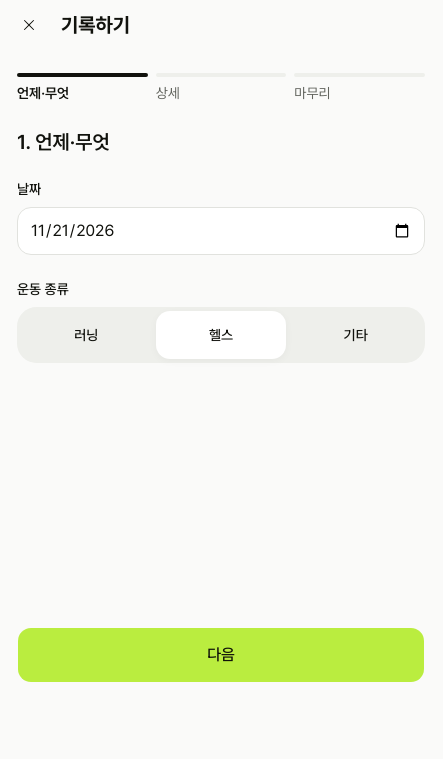
최근 기록 불러오기 버튼 › 조회에 실패해 목록이 없으면 버튼을 숨긴다
What coordinates should you click on to do the following:
click the button "다음"
I would click on:
 (221, 655)
Its box is [17,627,425,683].
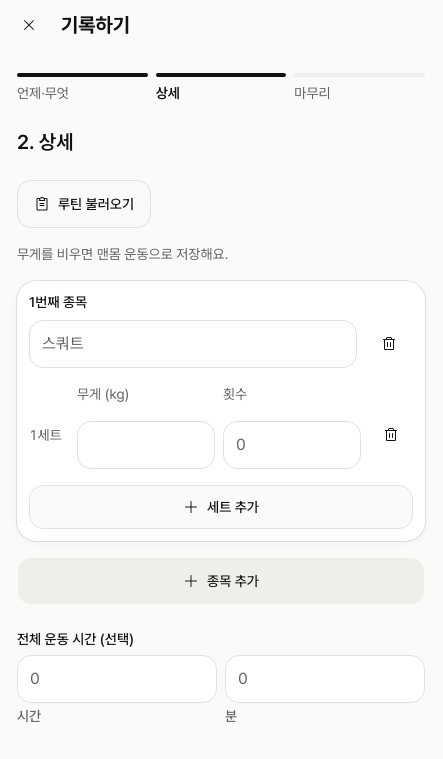
Expected: the button "루틴 불러오기" is shown, [17,180,151,228]
